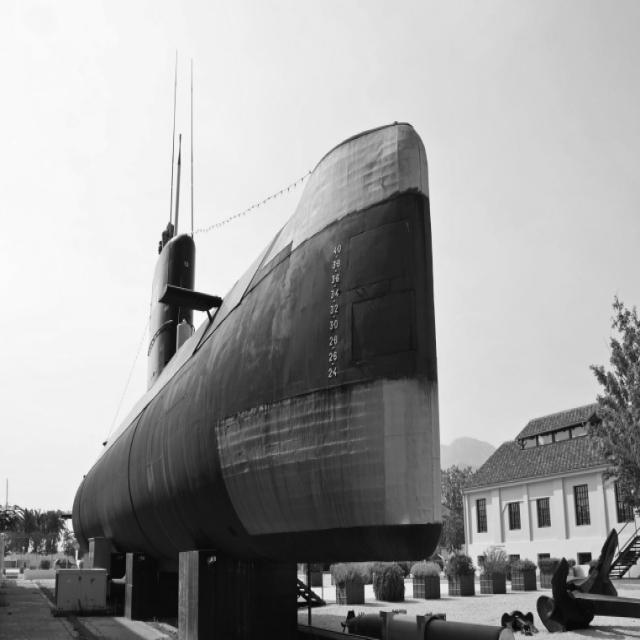submarine: (71, 43, 444, 566)
